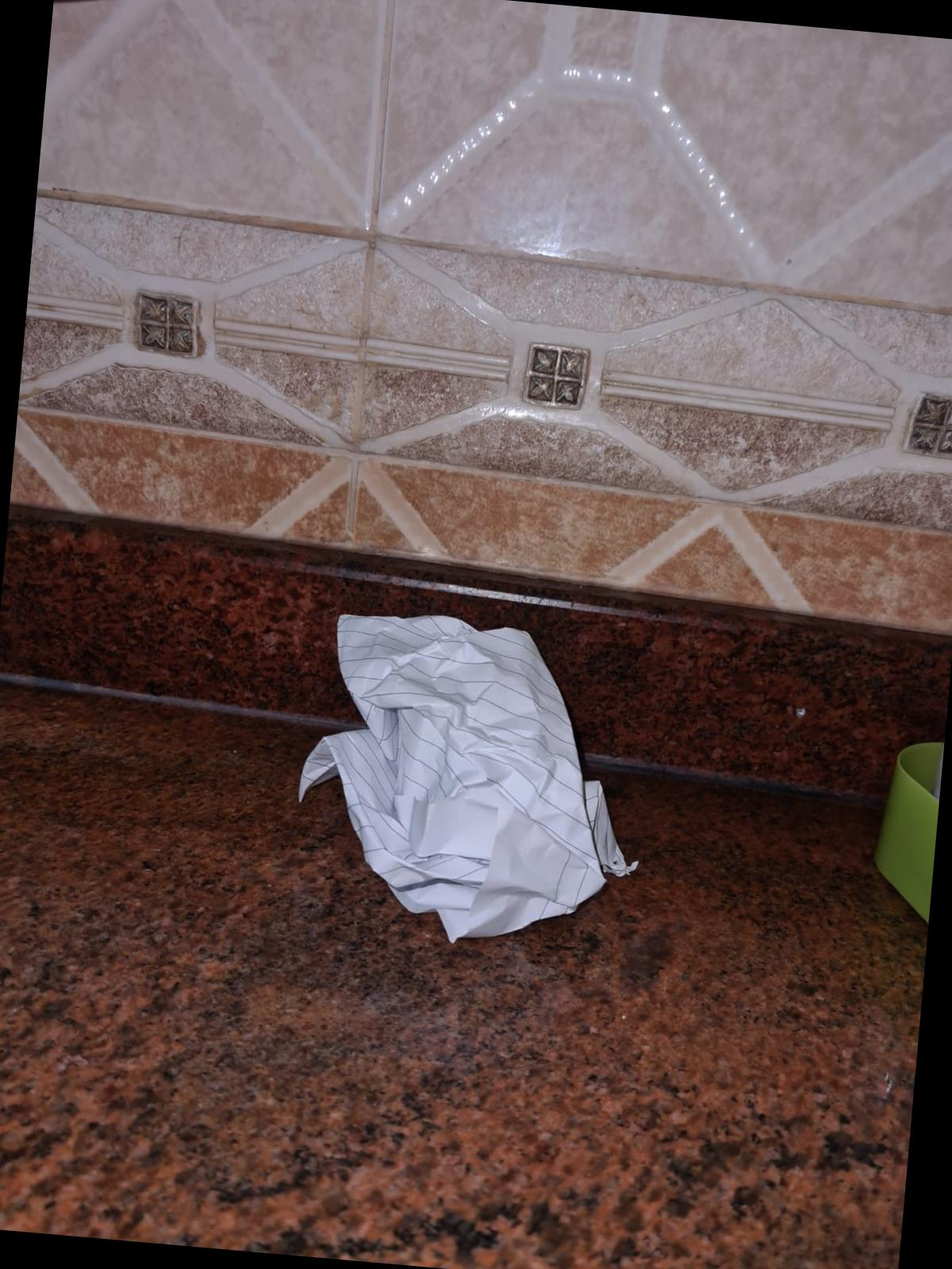Kertas: (298, 615, 635, 940)
